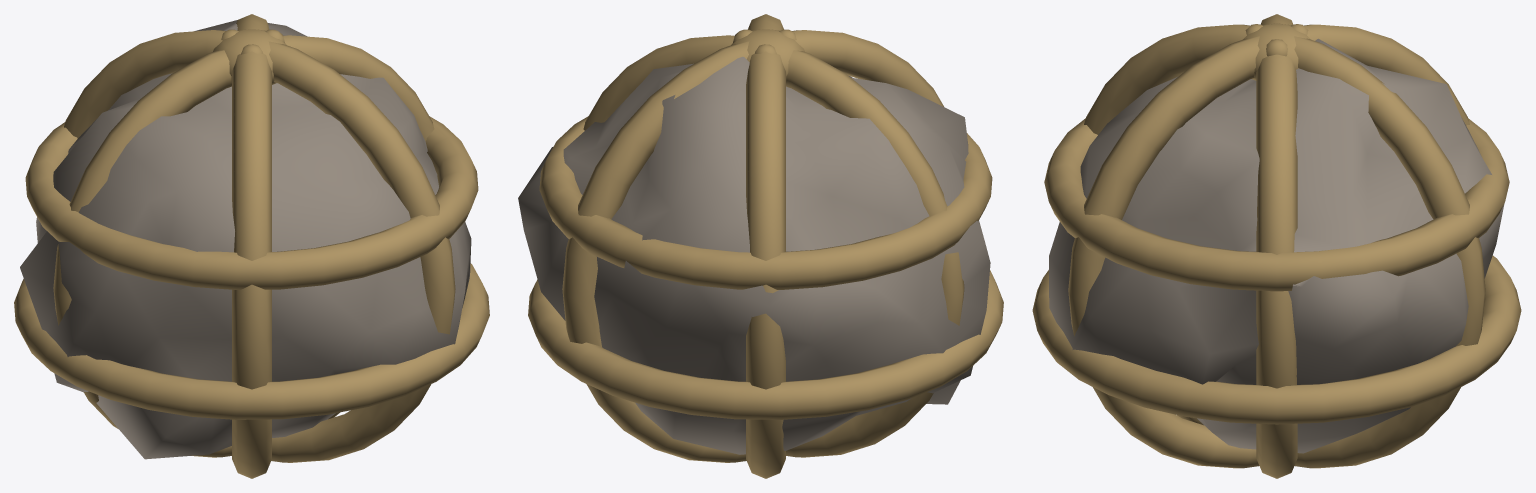
Rendered from catapult_projectile.glb.
The picture shows the model from 3 angles, left to right: view 1: azimuth 30°, elevation 25°; view 2: azimuth 150°, elevation 25°; view 3: azimuth 270°, elevation 25°; orthographic projection. The views are drawn at different scales.
Parts seen in each view (by area): view 1: CatapultRock, Rope_D2, Rope_H2, Rope_H1, Rope_D1, Rope_V1, Rope_Knot; view 2: CatapultRock, Rope_H2, Rope_H1, Rope_D1, Rope_V1, Rope_D2, Rope_Knot; view 3: CatapultRock, Rope_H2, Rope_H1, Rope_D1, Rope_D2, Rope_V1, Rope_Knot.
Part boxes in pixels (x1,y1,x2,y2): CatapultRock: [20, 20, 471, 459]; Rope_D2: [64, 30, 455, 462]; Rope_H2: [25, 116, 478, 289]; Rope_H1: [14, 263, 489, 419]; Rope_D1: [232, 14, 271, 478]; Rope_V1: [53, 35, 434, 457]; Rope_Knot: [213, 29, 286, 84]; CatapultRock: [518, 56, 990, 454]; Rope_H2: [539, 116, 992, 289]; Rope_H1: [528, 270, 1003, 419]; Rope_D1: [562, 30, 943, 462]; Rope_V1: [583, 35, 964, 457]; Rope_D2: [746, 14, 785, 478]; Rope_Knot: [731, 29, 804, 81]; CatapultRock: [1049, 38, 1504, 453]; Rope_H2: [1044, 118, 1509, 291]; Rope_H1: [1032, 255, 1521, 424]; Rope_D1: [1084, 24, 1485, 468]; Rope_D2: [1068, 24, 1469, 468]; Rope_V1: [1256, 14, 1297, 478]; Rope_Knot: [1243, 23, 1310, 80].
Size of the model in its own units: 0.83 by 0.813 by 0.83.
